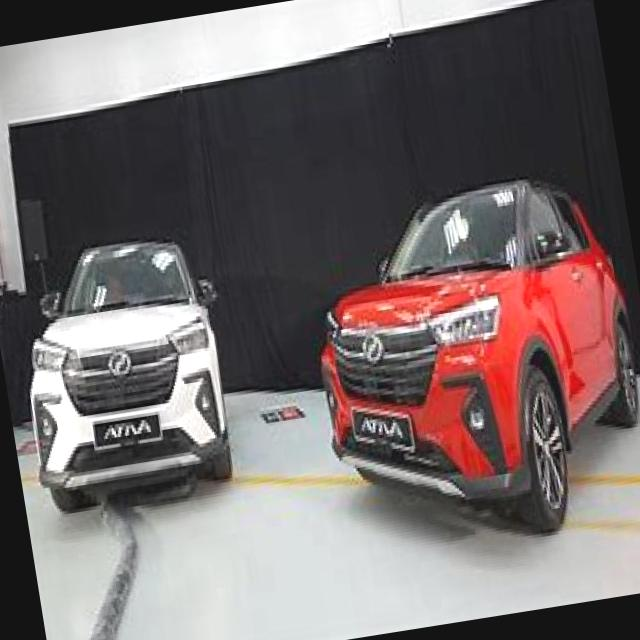PeroduaAtiva: (292, 160, 640, 564)
